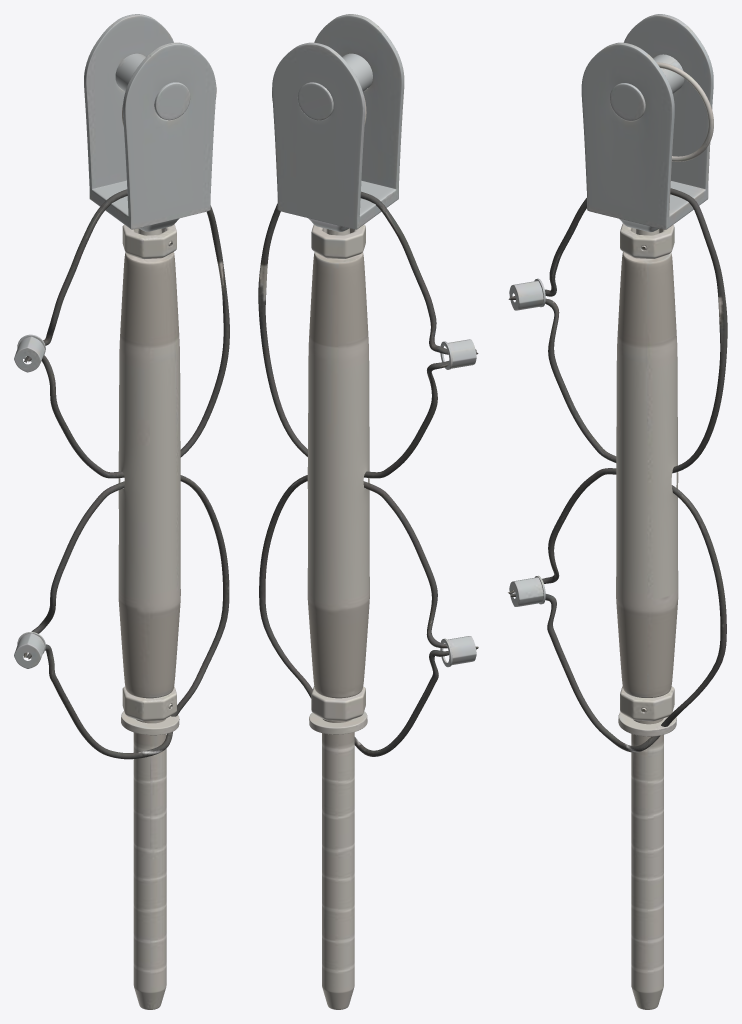
The picture shows the model from 3 angles, left to right: view 1: azimuth 30°, elevation 25°; view 2: azimuth 150°, elevation 25°; view 3: azimuth 330°, elevation 25°; orthographic projection.
Visible parts, largest first — view 1: base_angle.001, upper_round_angle.001, wire_iron.001, nut1.001, bend_wire.001, center_upper_ring.001; view 2: base_angle.001, upper_round_angle.001, wire_iron.001, nut1.001, center_upper_ring.001, bend_wire.001; view 3: base_angle.001, upper_round_angle.001, wire_iron.001, nut1.001, bend_wire.001, center_upper_ring.001, kiring_upper.001.
Part boxes in pixels (box(x1,y1,x2,y2)): base_angle.001: box(118, 228, 180, 1009); upper_round_angle.001: box(84, 14, 216, 231); wire_iron.001: box(23, 189, 229, 759); nut1.001: box(121, 224, 179, 735); bend_wire.001: box(14, 334, 45, 668); center_upper_ring.001: box(115, 53, 190, 120); base_angle.001: box(307, 228, 369, 1009); upper_round_angle.001: box(272, 14, 404, 231); wire_iron.001: box(258, 191, 478, 756); nut1.001: box(309, 224, 367, 734); center_upper_ring.001: box(297, 53, 372, 120); bend_wire.001: box(440, 339, 476, 667); base_angle.001: box(616, 229, 678, 1009); upper_round_angle.001: box(581, 14, 713, 232); wire_iron.001: box(508, 188, 727, 752); nut1.001: box(618, 223, 676, 736); bend_wire.001: box(509, 278, 545, 606); center_upper_ring.001: box(609, 54, 684, 120); kiring_upper.001: box(656, 62, 713, 161).
Size of the model in its own units: 3.63 by 15.65 by 1.28.
1 material, 1 textured.
